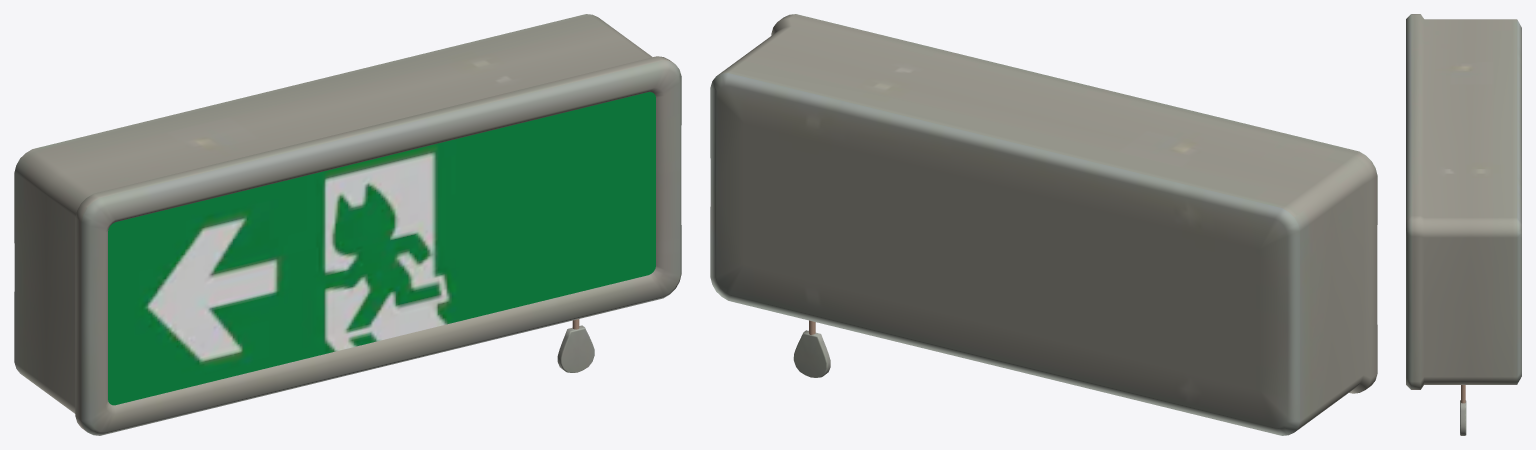
3 renders of one model, left to right at view 1: azimuth 30°, elevation 25°; view 2: azimuth 150°, elevation 25°; view 3: azimuth 270°, elevation 25°, orthographic. The views are drawn at different scales.
Bounding box in the file's own units: 9.98 × 5.15 × 2.28.
Materials: 2 (2 with a texture image).
